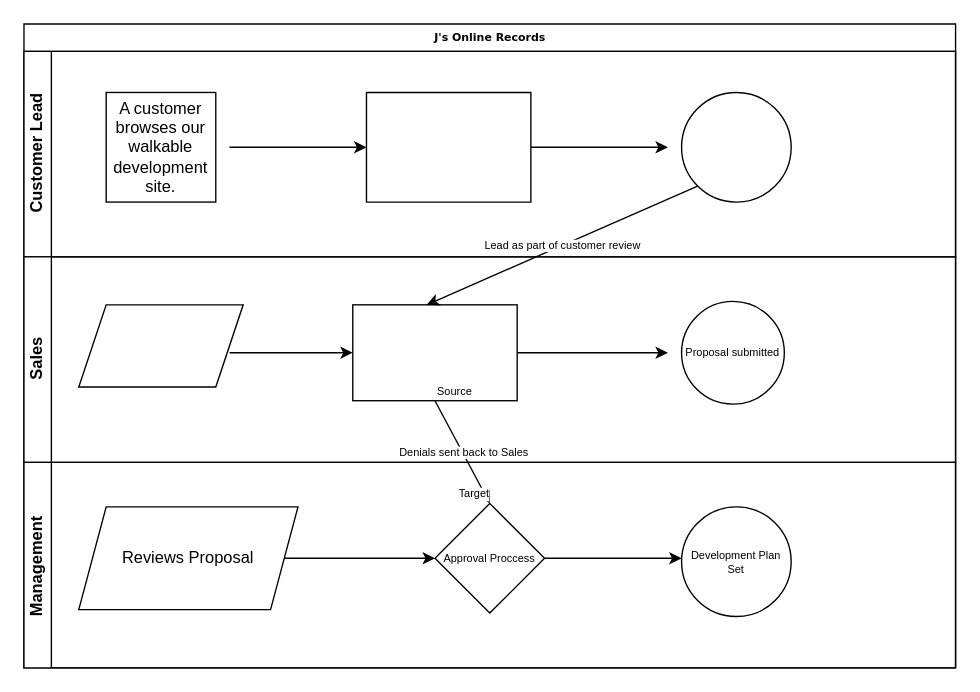
This 980x692 diagram has some shape labels left out. Each missing label, with the centre of its shape:
"Lead created" goes at pixel 735 146.
"Sales reviews possible good development sites" goes at pixel 434 352.
"Sales team surveys state" goes at pixel 160 345.
"Submits contact info via website" goes at pixel 448 146.
